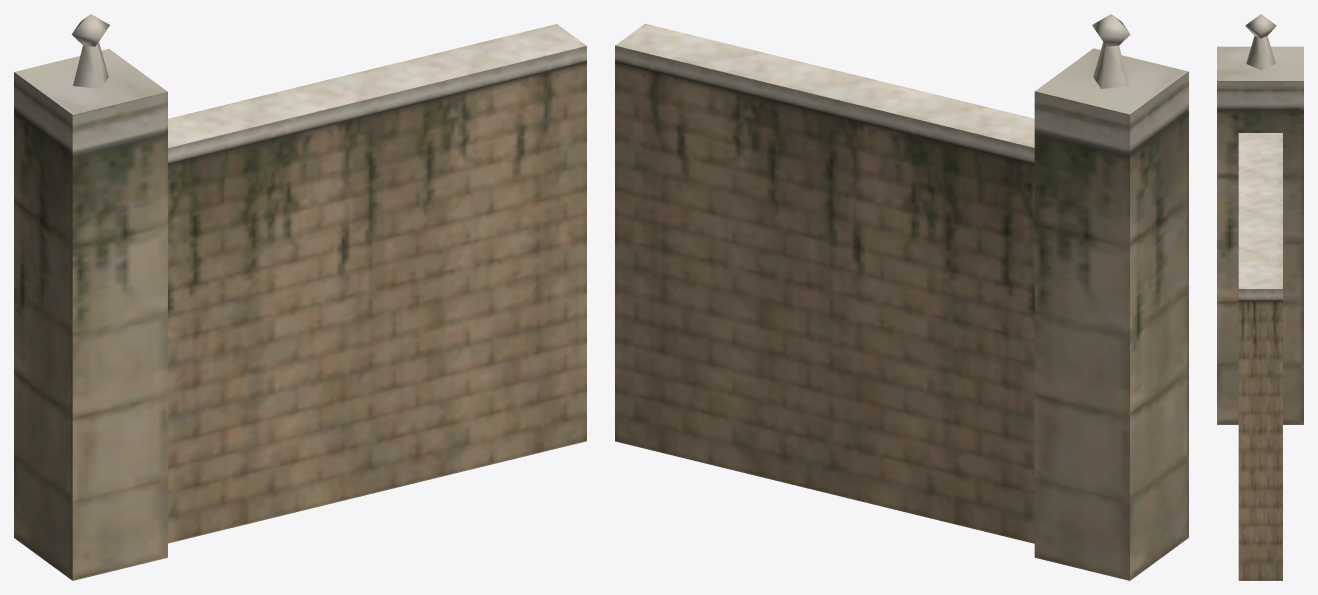
Rendered from thm_nboo_thed_imprv_wallendpiece_s01_l2.fbx.
3 views of the same model, side by side, from view 1: azimuth 30°, elevation 25°; view 2: azimuth 150°, elevation 25°; view 3: azimuth 270°, elevation 25° (orthographic). The views are drawn at different scales.
Visible parts, largest first — view 1: mesh_node; view 2: mesh_node; view 3: mesh_node.
Part boxes in pixels (box(x1,y1,x2,y2)): mesh_node: box(14, 14, 586, 580); mesh_node: box(615, 14, 1188, 580); mesh_node: box(1217, 14, 1303, 580).
Bounding box in the file's own units: 11.28 × 10.88 × 2.17.
